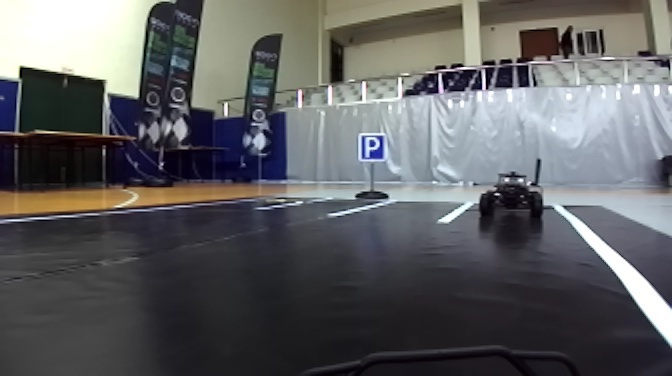park: (357, 133, 388, 162)
